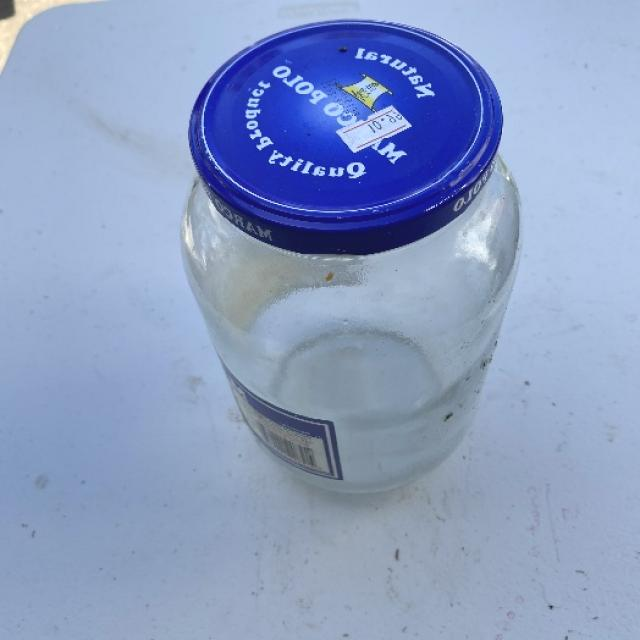inorganic: (193, 38, 515, 529)
